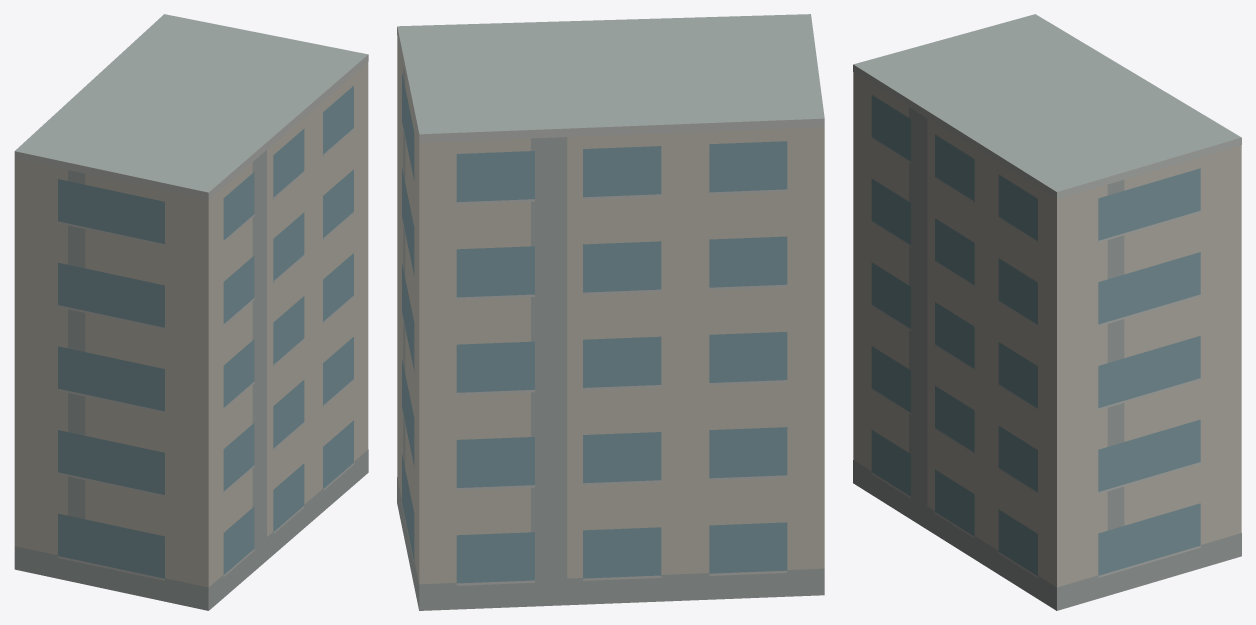
The model's file is survey-upis-32724545.glb.
The picture shows the model from 3 angles, left to right: view 1: azimuth 30°, elevation 25°; view 2: azimuth 150°, elevation 25°; view 3: azimuth 270°, elevation 25°; orthographic projection. The views are drawn at different scales.
Parts seen in each view (by area): view 1: survey-upis-32724545.tmp; view 2: survey-upis-32724545.tmp; view 3: survey-upis-32724545.tmp.
Boxes of the visible parts, box(x1,y1,x2,y2) form: survey-upis-32724545.tmp: box(14, 14, 368, 610); survey-upis-32724545.tmp: box(397, 14, 824, 610); survey-upis-32724545.tmp: box(853, 14, 1241, 610).
Size of the model in its own units: 12.5 by 13.7 by 11.53.
